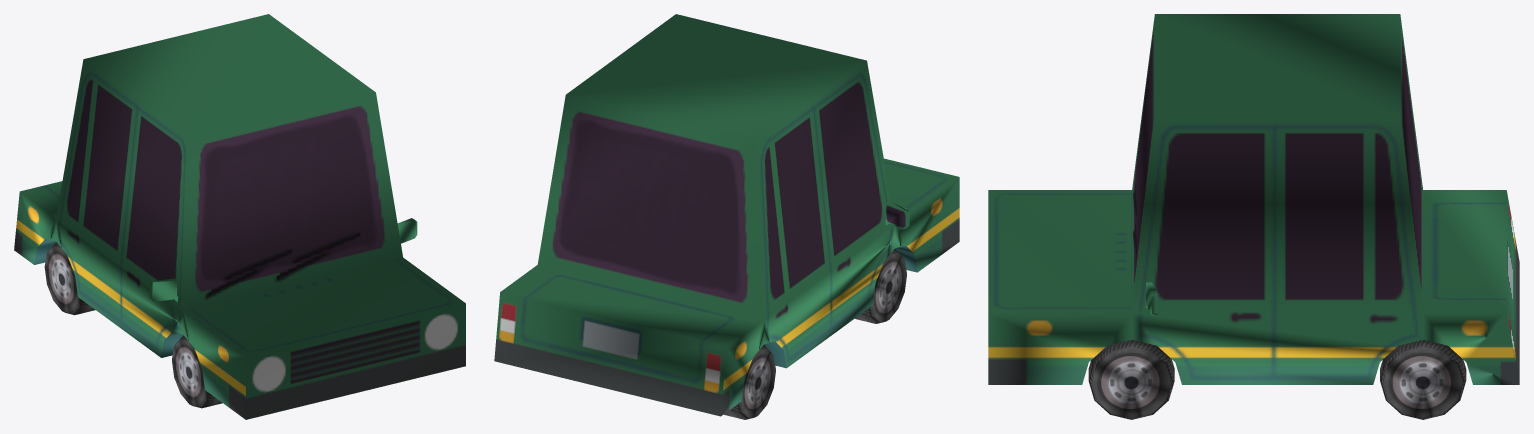
The model's file is low-poly-car02.gltf.
3 views of the same model, side by side, from view 1: azimuth 30°, elevation 25°; view 2: azimuth 150°, elevation 25°; view 3: azimuth 270°, elevation 25° (orthographic). The views are drawn at different scales.
Parts seen in each view (by area): view 1: Low_Poly_Vehicles_car02; view 2: Low_Poly_Vehicles_car02; view 3: Low_Poly_Vehicles_car02.
Part boxes in pixels (x1,y1,x2,y2): Low_Poly_Vehicles_car02: [14, 14, 465, 419]; Low_Poly_Vehicles_car02: [494, 14, 959, 419]; Low_Poly_Vehicles_car02: [988, 14, 1519, 419].
Size of the model in its own units: 24.16 by 22.5 by 36.51.
Materials: 1 (1 with a texture image).
